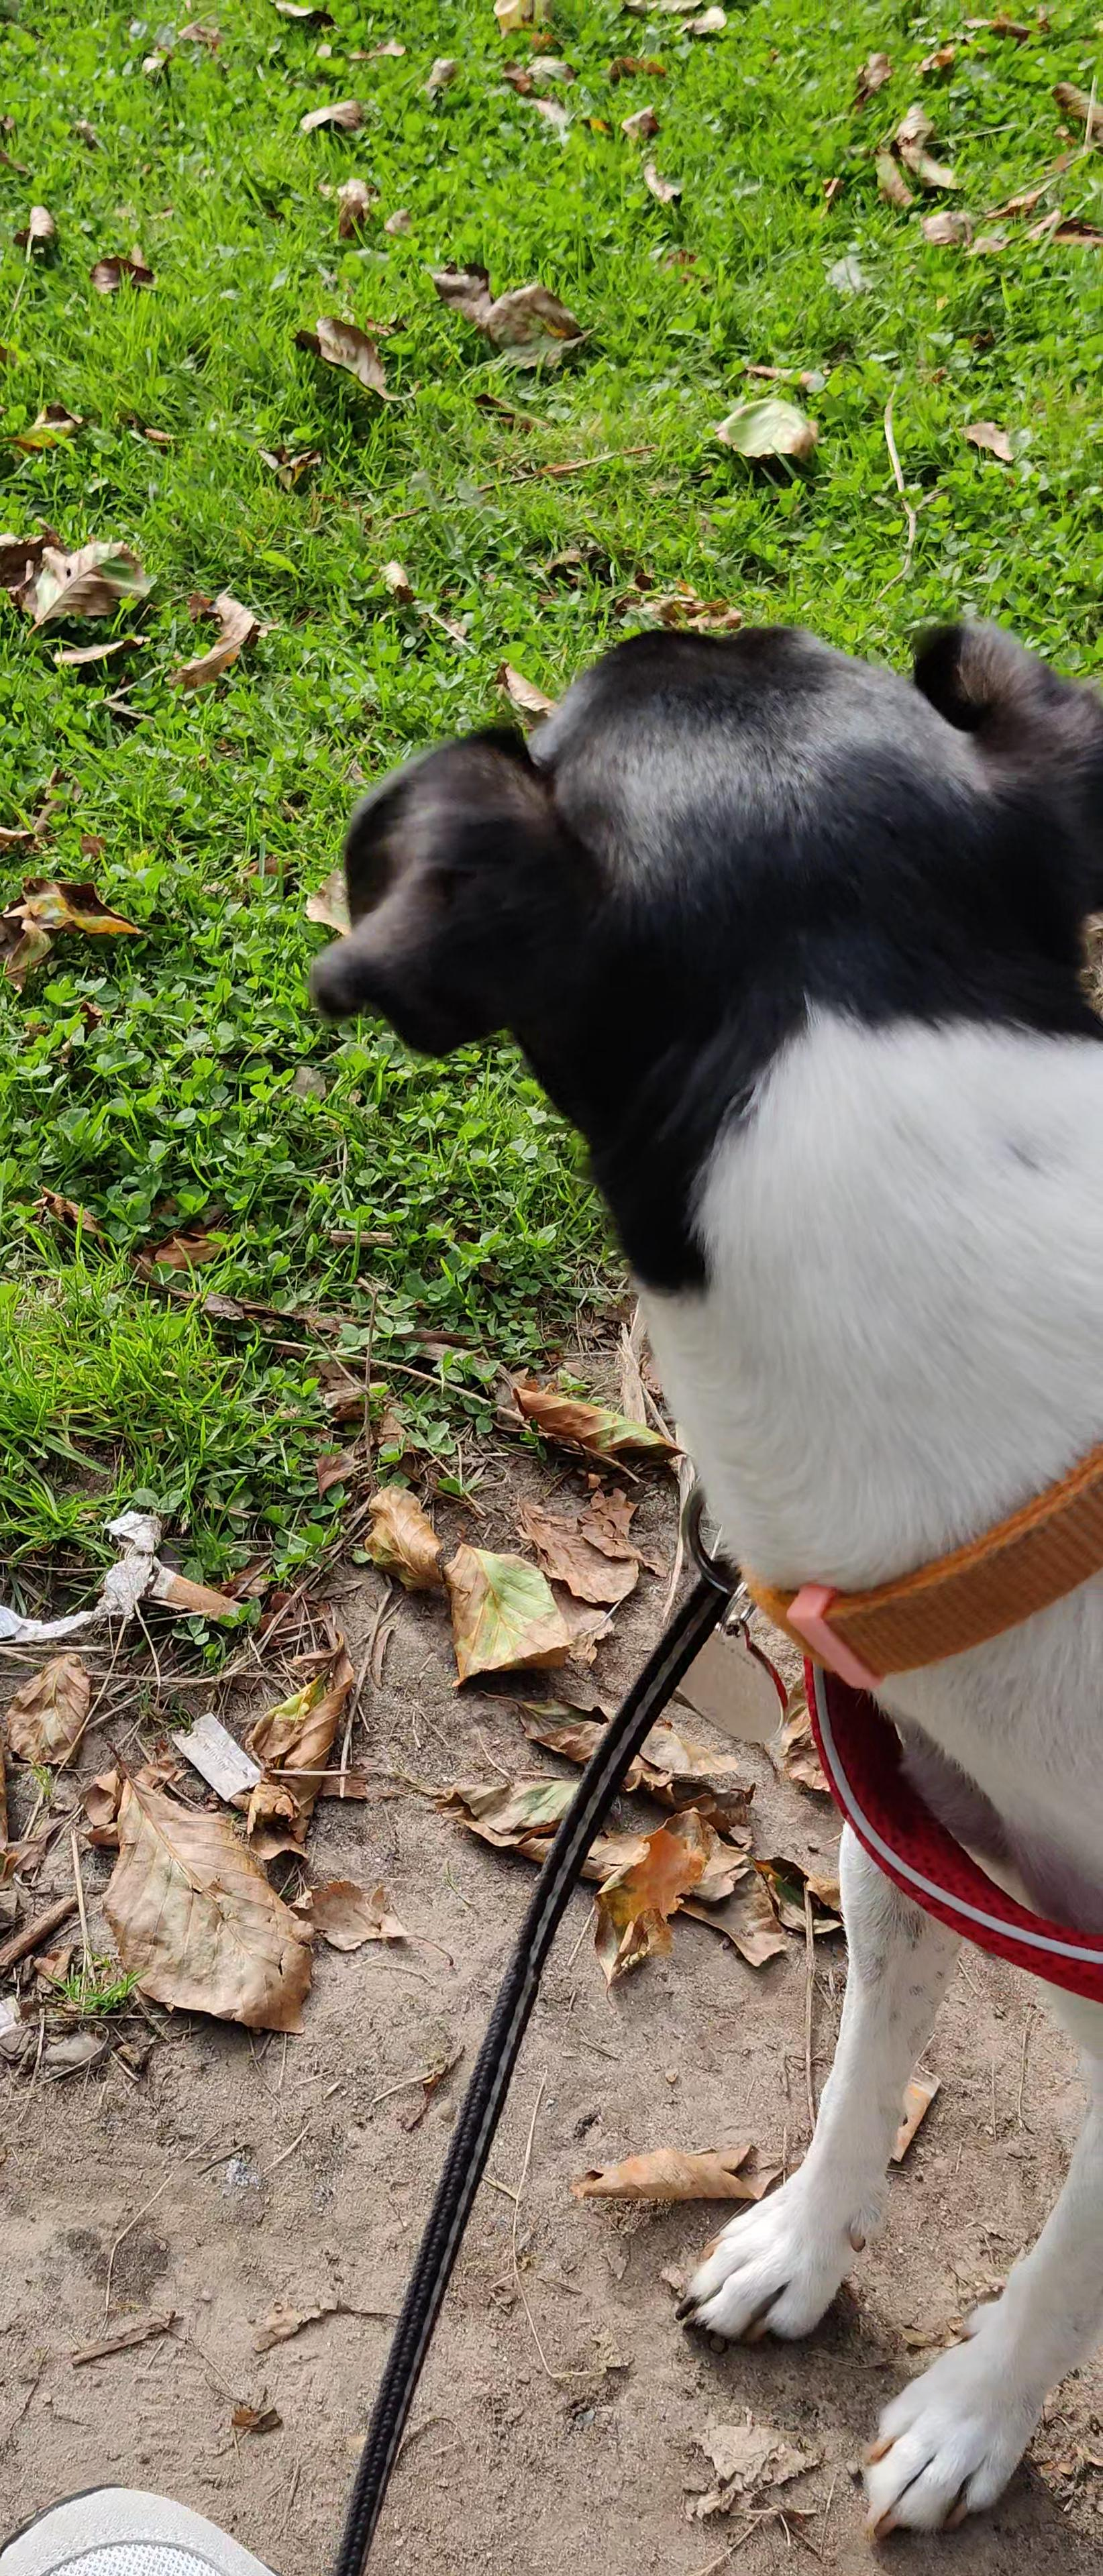Dog: (299, 590, 1103, 2576)
